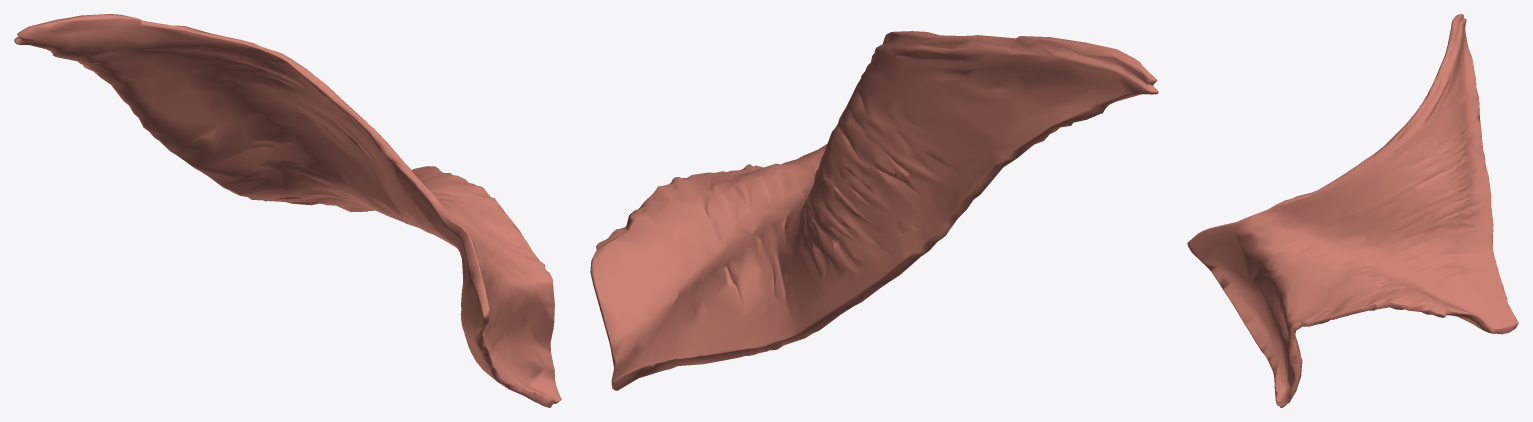
3 renders of one model, left to right at view 1: azimuth 30°, elevation 25°; view 2: azimuth 150°, elevation 25°; view 3: azimuth 270°, elevation 25°, orthographic. The views are drawn at different scales.
Visible parts, largest first — view 1: 右侧颈阔肌; view 2: 右侧颈阔肌; view 3: 右侧颈阔肌.
Boxes of the visible parts, x1=… form: 右侧颈阔肌: x1=14, y1=14, x2=561, y2=407; 右侧颈阔肌: x1=590, y1=31, x2=1158, y2=390; 右侧颈阔肌: x1=1187, y1=14, x2=1518, y2=407.
Bounding box in the file's own units: 0.212 × 0.1834 × 0.2094.
